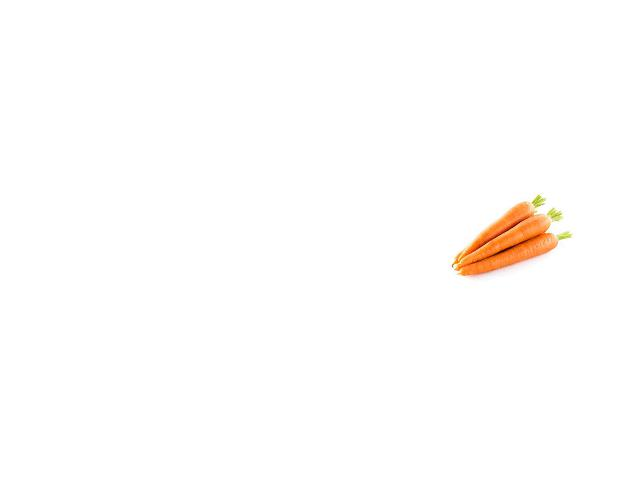carrot: (460, 230, 567, 277)
